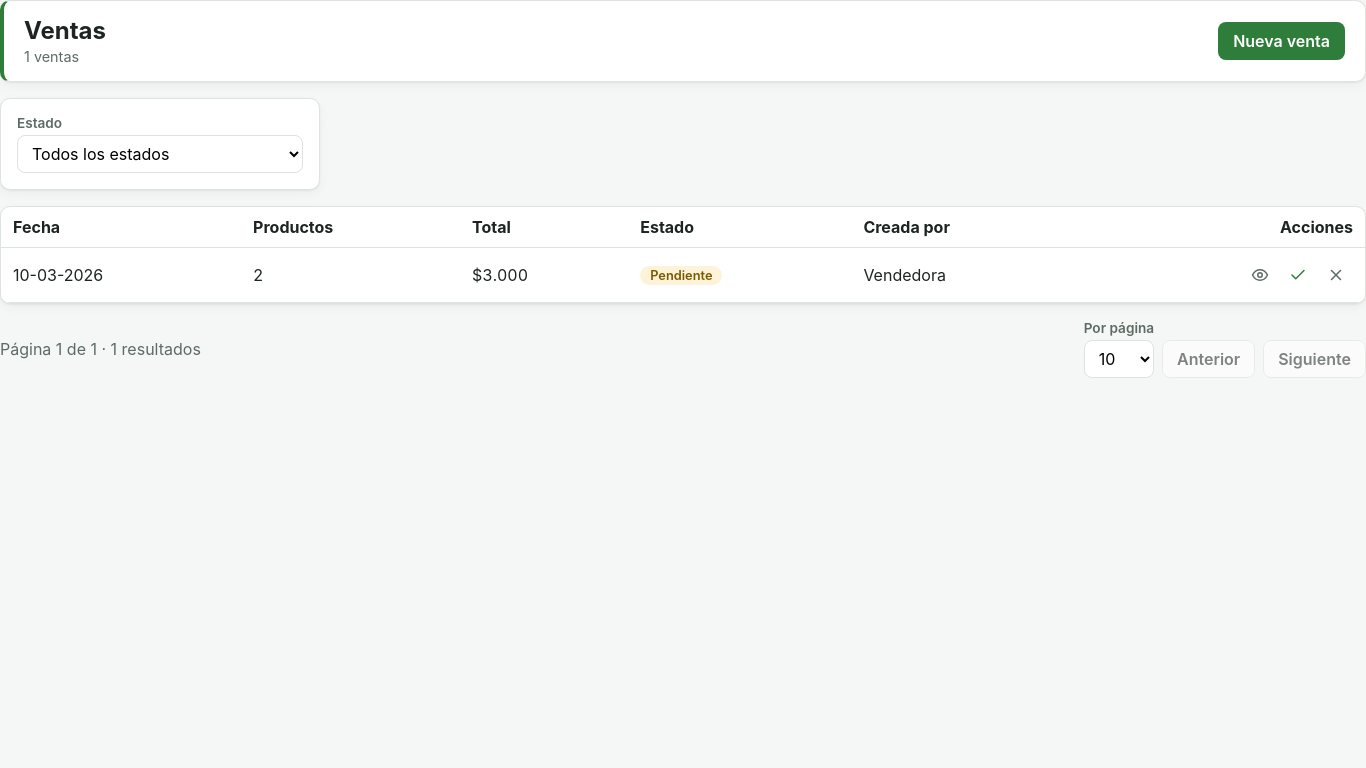
Test: SalesPage › completes from the list: the check opens a popup to choose the payment method
Click the button named "Completar venta" at {"x": 1298, "y": 275}, box left=1281, top=258, right=1315, bottom=292
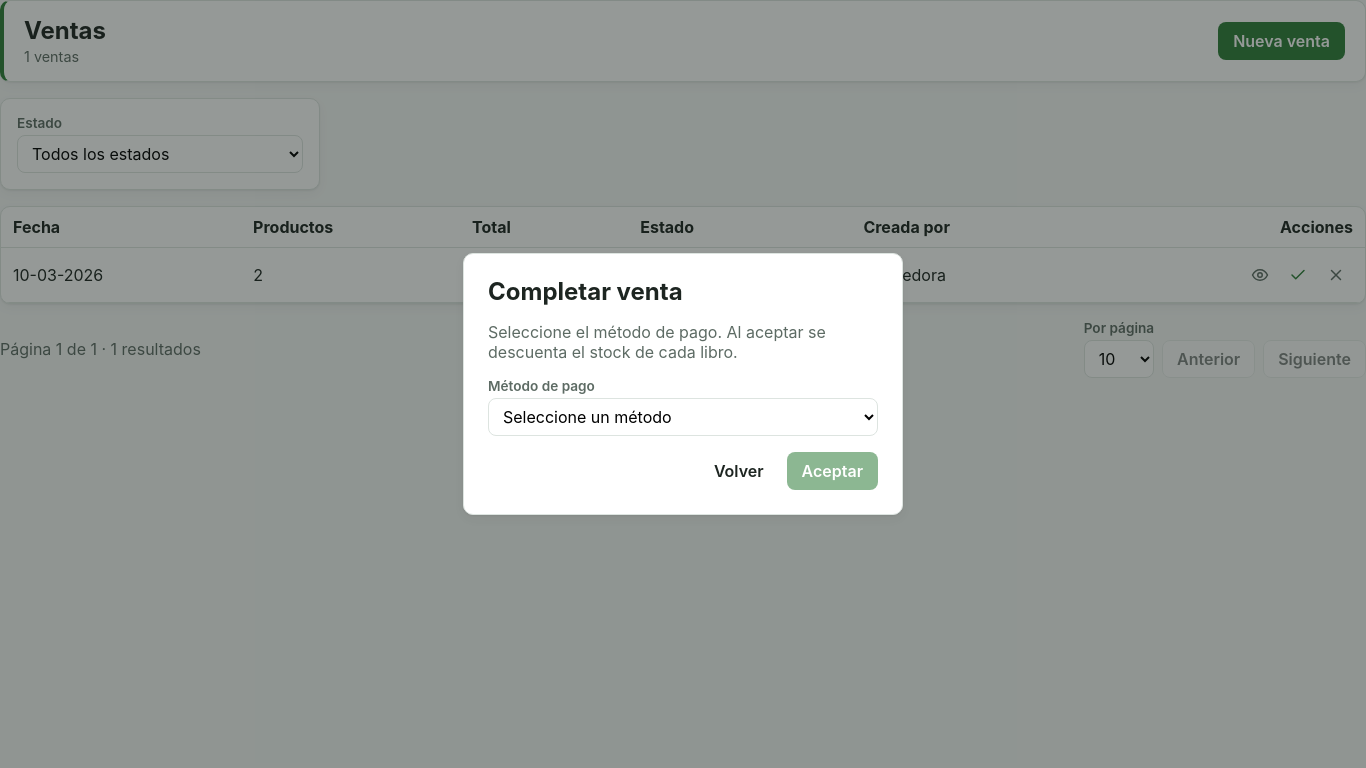
Check: the button "Aceptar" is disabled, box left=787, top=452, right=878, bottom=490
Select "Efectivo" in the dropdown labelled "Método de pago" at {"x": 683, "y": 417}, box left=488, top=398, right=878, bottom=436
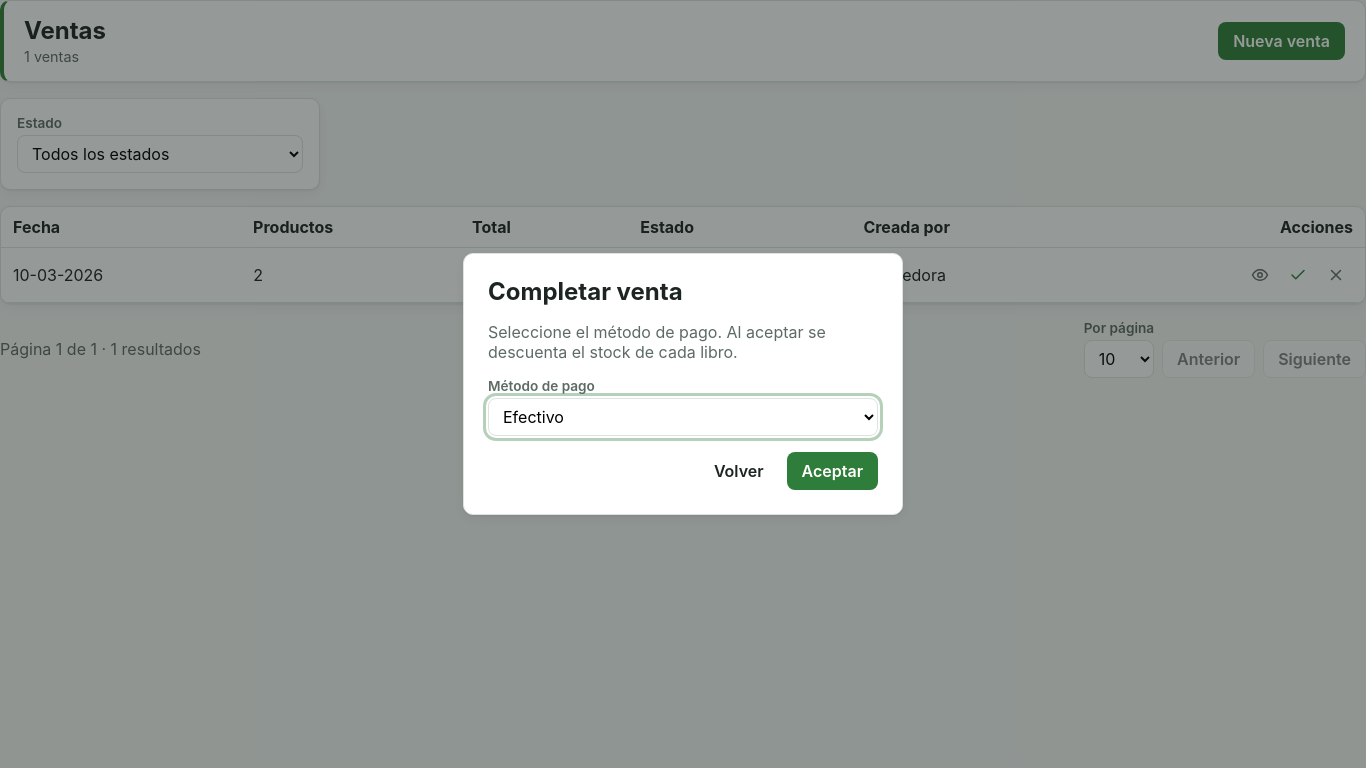
Click the button "Aceptar" at {"x": 832, "y": 471}, box left=787, top=452, right=878, bottom=490
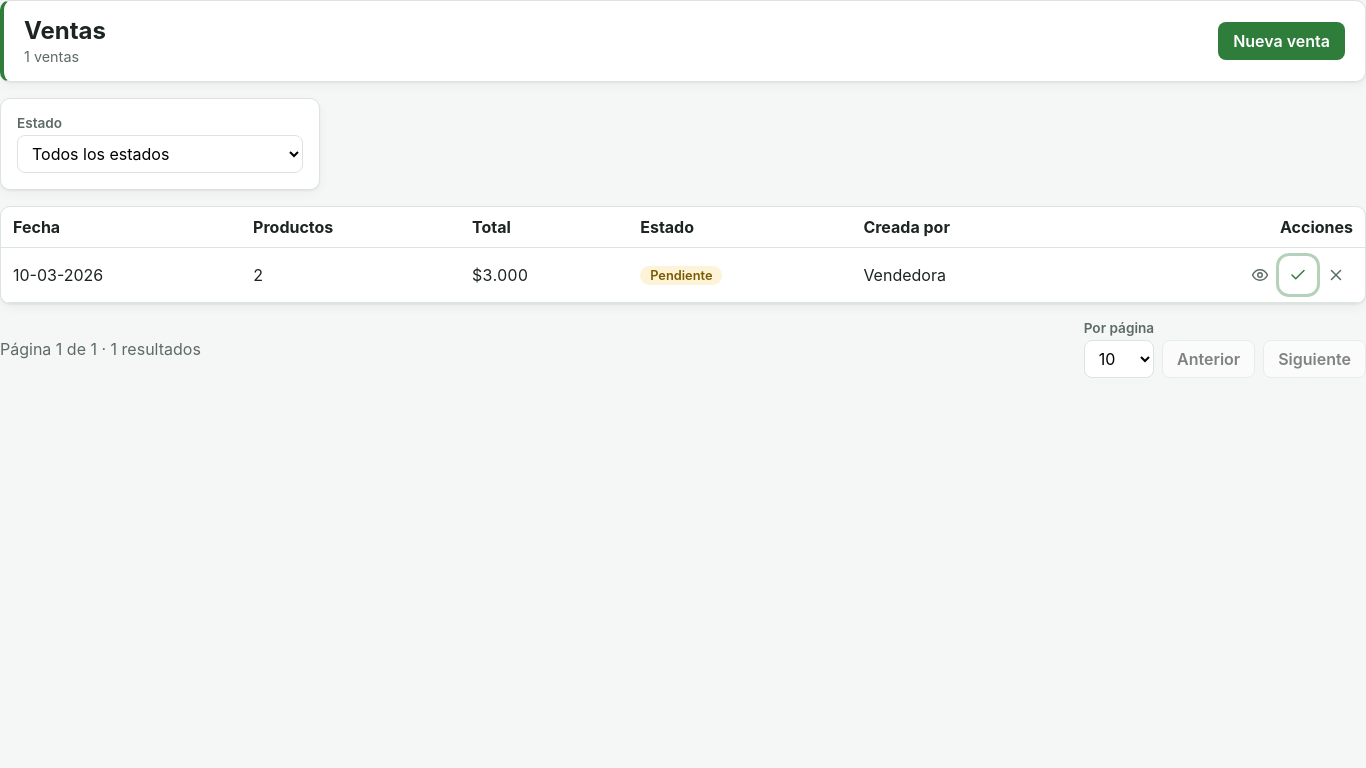
Check: the dialog is gone
